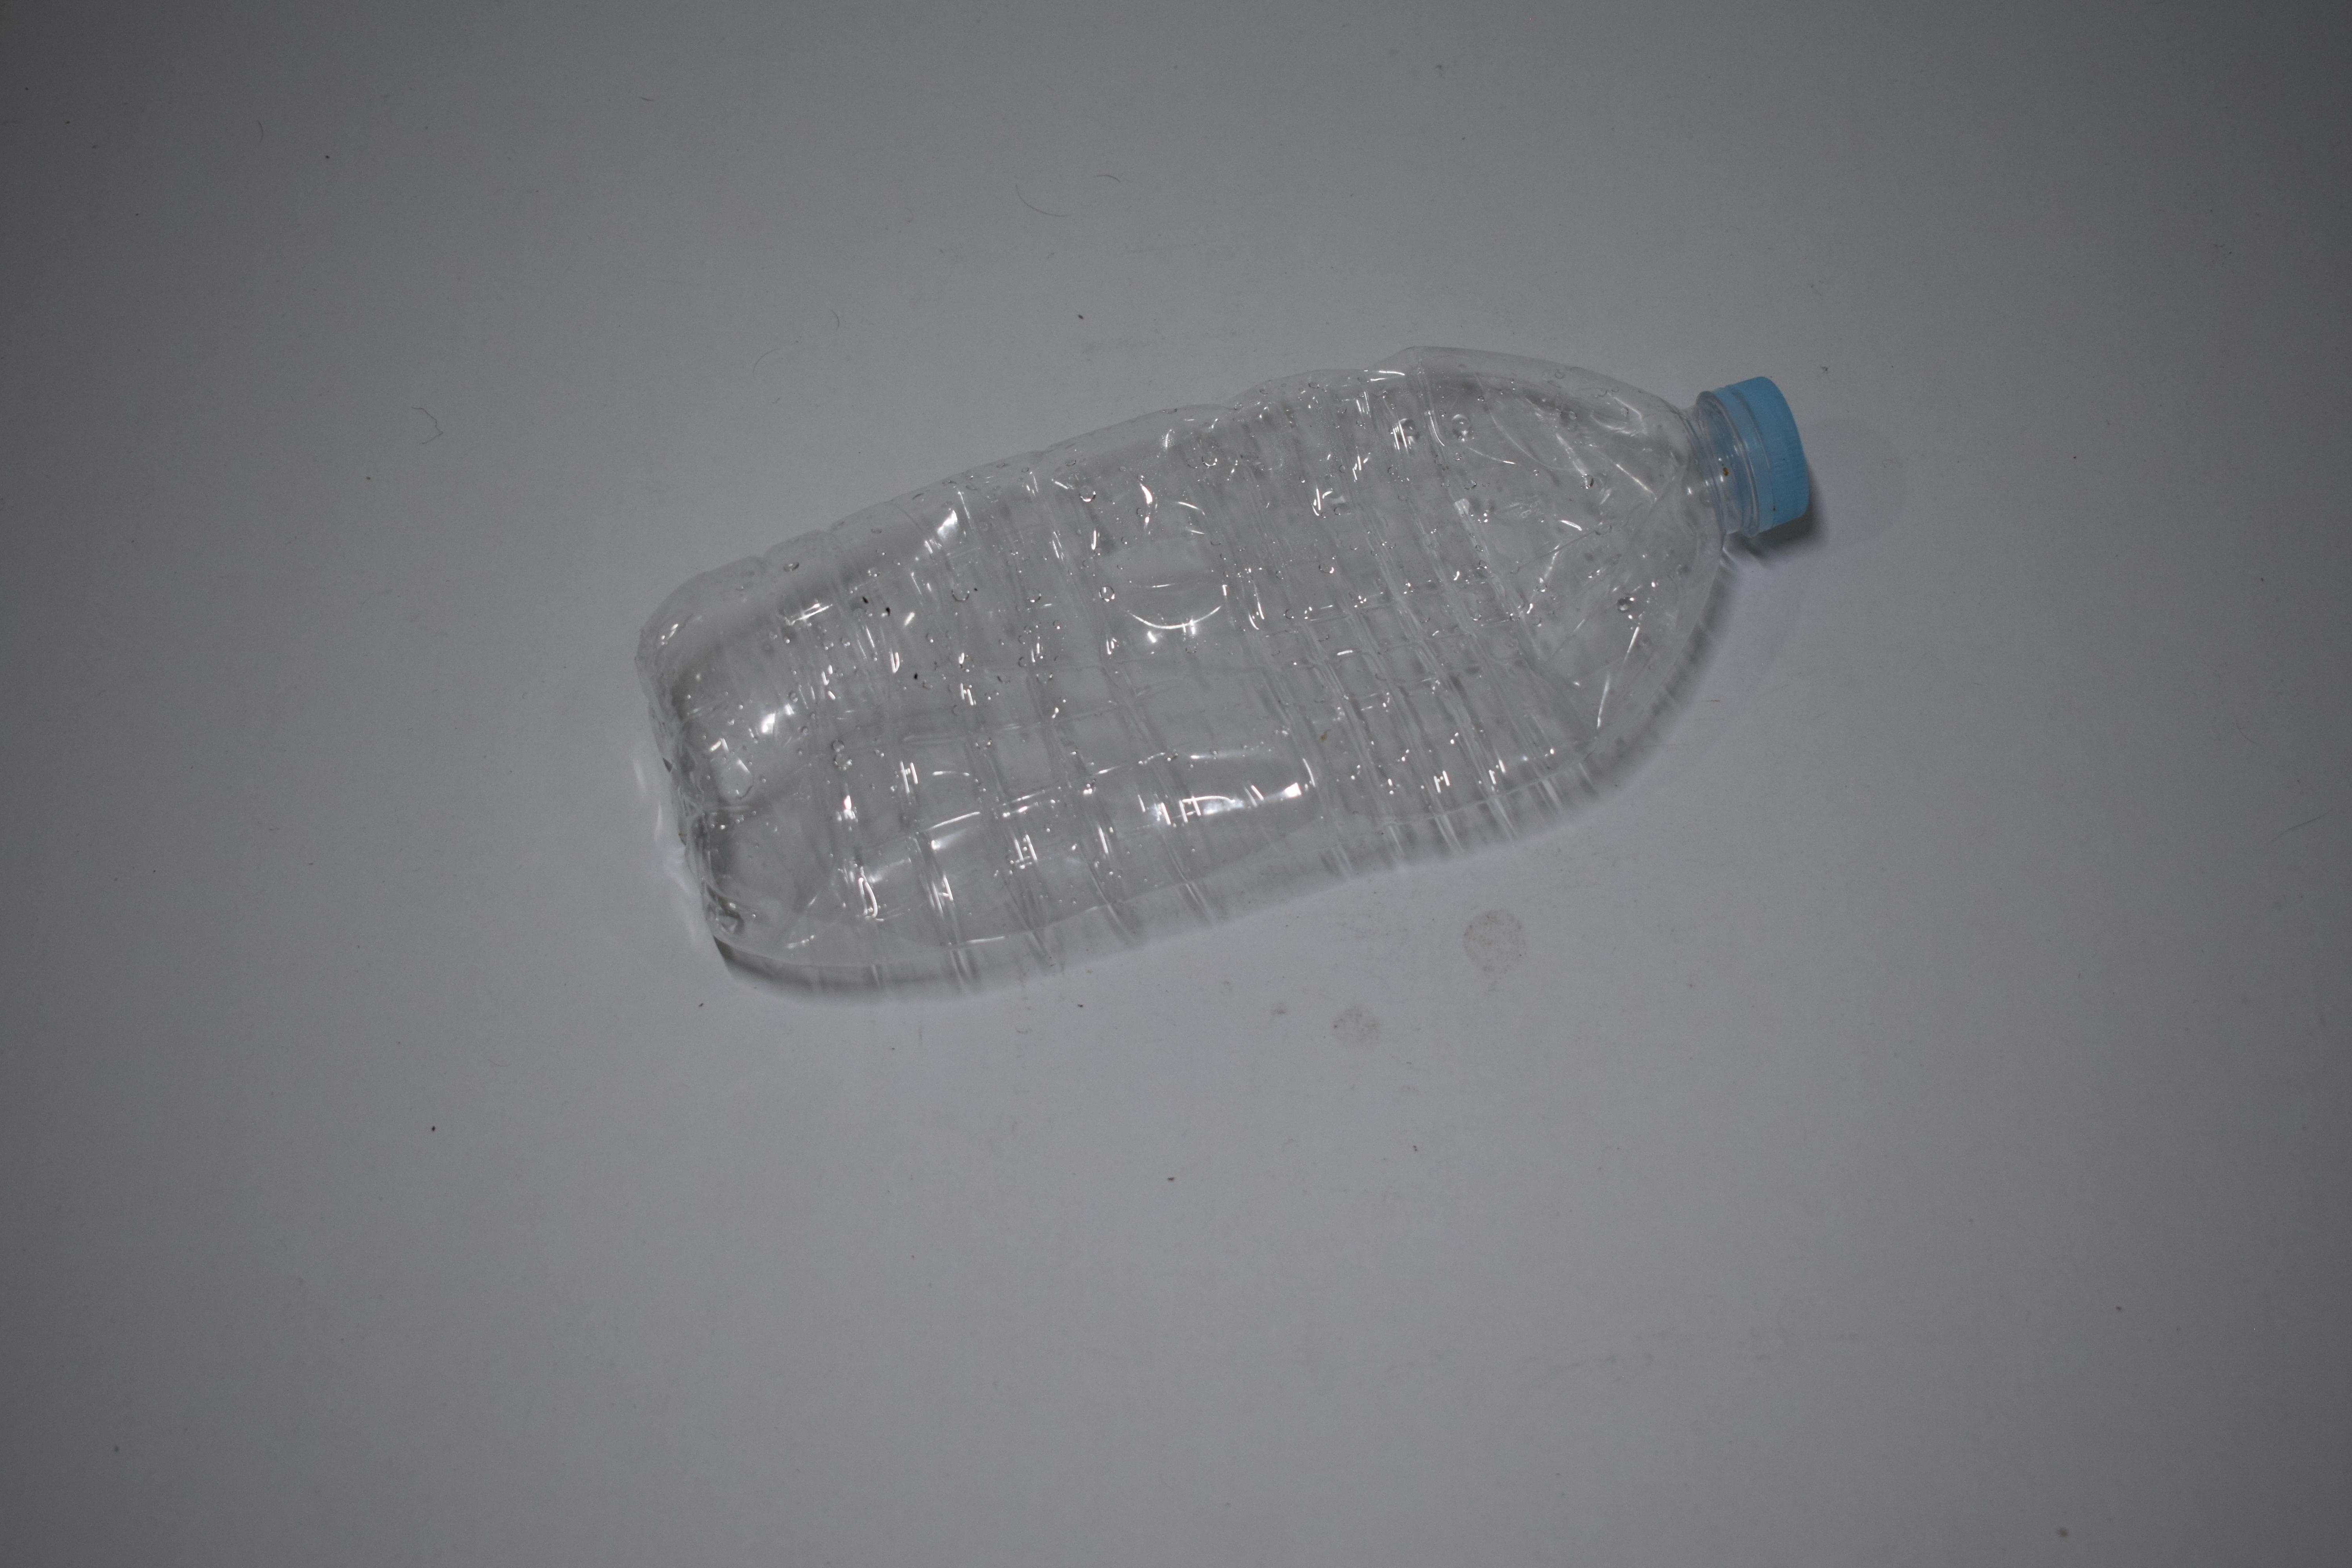bottle: (39, 333, 70, 1006)
